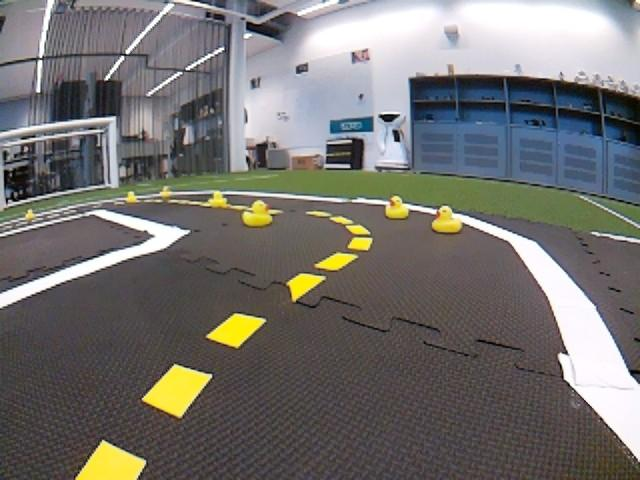Duckies: (431, 205, 464, 235), (241, 199, 274, 228), (383, 194, 410, 219), (206, 189, 230, 208), (125, 191, 138, 203), (159, 187, 172, 199), (24, 211, 36, 220)
